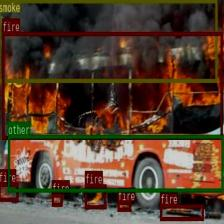fire: (2, 31, 222, 139), (160, 204, 204, 220), (84, 184, 106, 208), (0, 182, 18, 201), (51, 192, 62, 205), (118, 200, 130, 211)
smoke: (0, 0, 217, 81)
